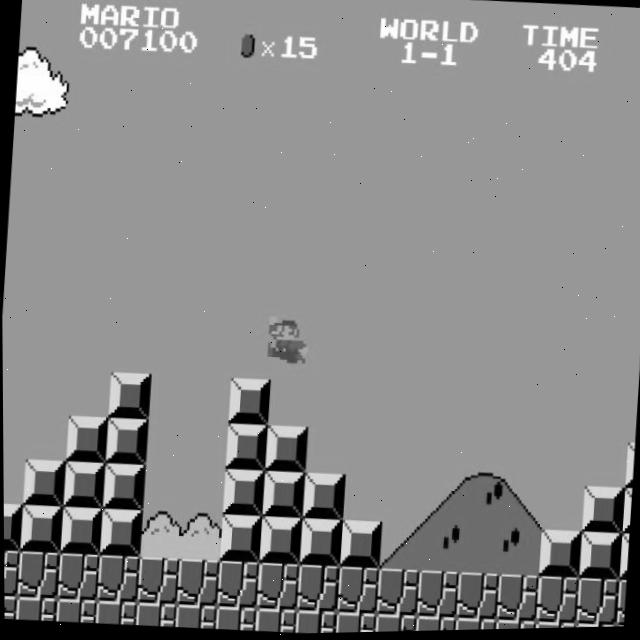11- little_mario: (263, 314, 310, 366)
17- undestructible_block: (55, 552, 100, 602), (95, 554, 140, 604), (334, 566, 379, 616), (374, 569, 419, 619), (454, 573, 499, 623), (414, 571, 459, 620), (494, 575, 539, 624), (135, 556, 179, 606), (175, 558, 219, 608), (215, 560, 259, 610), (255, 562, 299, 612), (295, 564, 339, 614), (534, 577, 578, 627), (574, 579, 618, 629), (15, 550, 59, 599), (13, 595, 57, 622), (53, 597, 97, 624), (93, 599, 137, 626), (134, 601, 177, 628), (173, 603, 216, 630), (253, 608, 296, 635), (213, 606, 256, 632), (293, 609, 336, 635), (333, 612, 376, 634), (373, 614, 416, 634), (413, 616, 456, 633), (3, 548, 18, 596), (453, 618, 496, 632), (493, 620, 536, 631), (615, 582, 625, 628), (533, 622, 576, 631), (3, 594, 16, 618)
9- hard_block: (300, 473, 345, 523), (223, 423, 268, 472), (21, 458, 65, 508), (18, 504, 62, 554), (61, 460, 105, 510), (58, 506, 102, 556), (107, 371, 151, 421), (98, 508, 142, 558), (227, 377, 271, 427), (221, 469, 265, 519), (218, 514, 262, 564), (258, 516, 302, 566), (338, 520, 382, 570), (537, 531, 581, 581), (577, 533, 621, 583), (64, 415, 108, 464), (104, 417, 148, 466), (101, 463, 145, 512), (264, 425, 308, 474), (261, 471, 305, 520), (298, 519, 342, 568), (580, 488, 624, 537), (3, 502, 21, 550), (621, 491, 631, 537), (618, 536, 628, 582), (624, 445, 634, 490)
